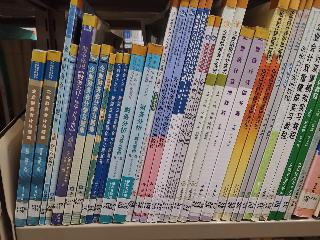book-spine: (220, 0, 300, 223), (210, 0, 290, 222), (228, 0, 307, 224), (236, 0, 315, 223), (244, 0, 320, 221), (175, 0, 249, 223), (166, 0, 237, 224), (248, 16, 320, 224), (197, 25, 272, 223), (145, 0, 208, 222), (185, 25, 255, 222), (129, 0, 191, 222), (151, 0, 212, 222), (139, 0, 198, 223), (155, 15, 217, 222), (161, 15, 222, 223), (125, 0, 181, 221), (259, 49, 320, 222), (107, 41, 164, 224), (47, 13, 96, 225), (37, 0, 78, 226), (100, 44, 146, 223), (59, 44, 100, 227), (70, 43, 110, 226), (90, 52, 130, 223), (42, 43, 79, 226), (78, 53, 117, 225), (86, 52, 124, 222), (25, 49, 61, 226), (13, 48, 46, 229)
